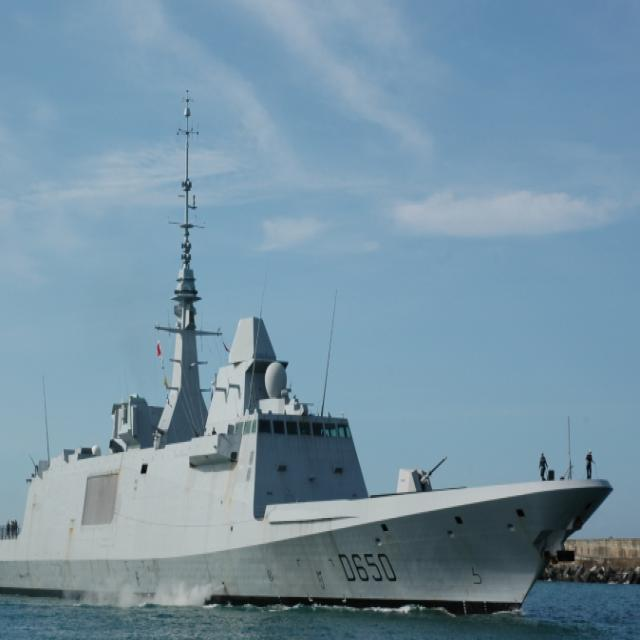Fragata: (1, 76, 619, 628)
